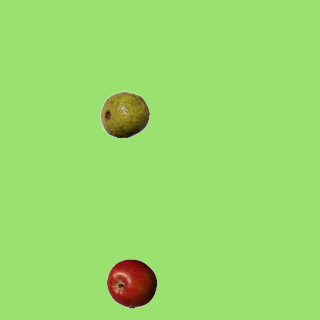Apple Braeburn: (106, 258, 156, 308)
Guava: (99, 89, 149, 139)
